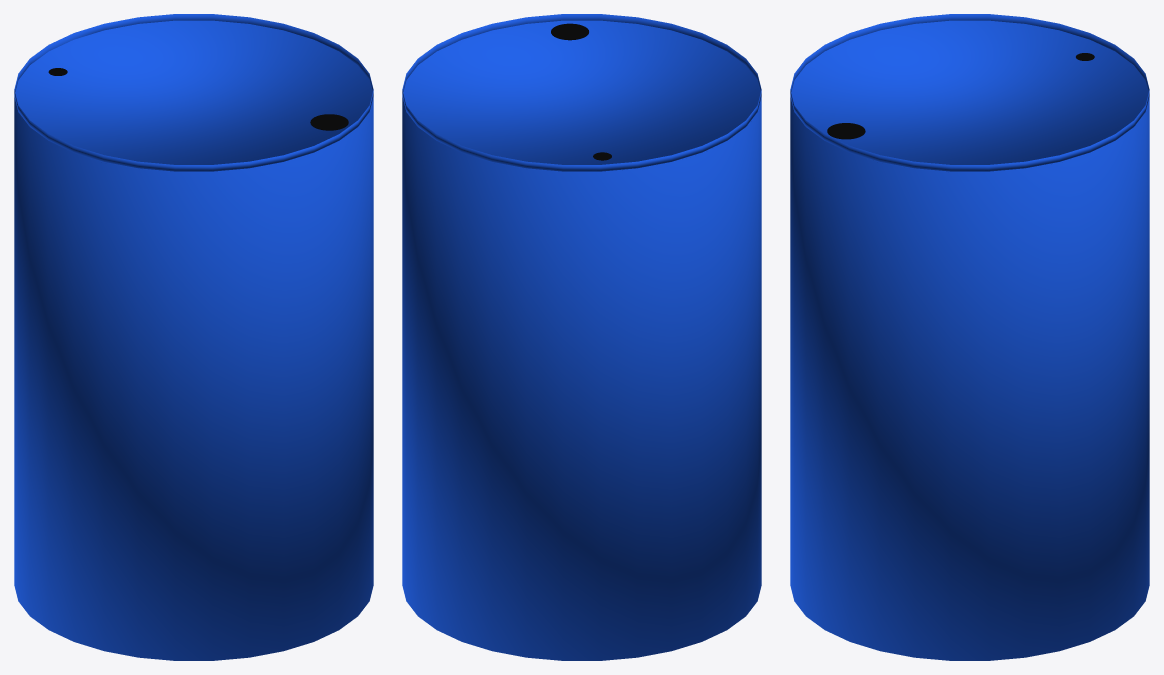
The model's file is boch.fbx.
The picture shows the model from 3 angles, left to right: view 1: azimuth 30°, elevation 25°; view 2: azimuth 150°, elevation 25°; view 3: azimuth 270°, elevation 25°; orthographic projection.
Parts seen in each view (by area): view 1: Cylinder, Cylinder.001; view 2: Cylinder, Cylinder.001; view 3: Cylinder, Cylinder.001.
Part boxes in pixels (<box>): Cylinder: <box>14,14,373,660</box>; Cylinder.001: <box>310,114,348,130</box>; Cylinder: <box>402,14,761,660</box>; Cylinder.001: <box>551,23,588,40</box>; Cylinder: <box>790,14,1149,660</box>; Cylinder.001: <box>827,123,865,139</box>.
Bounding box in the file's own units: 59.69 × 91.43 × 60.01.
